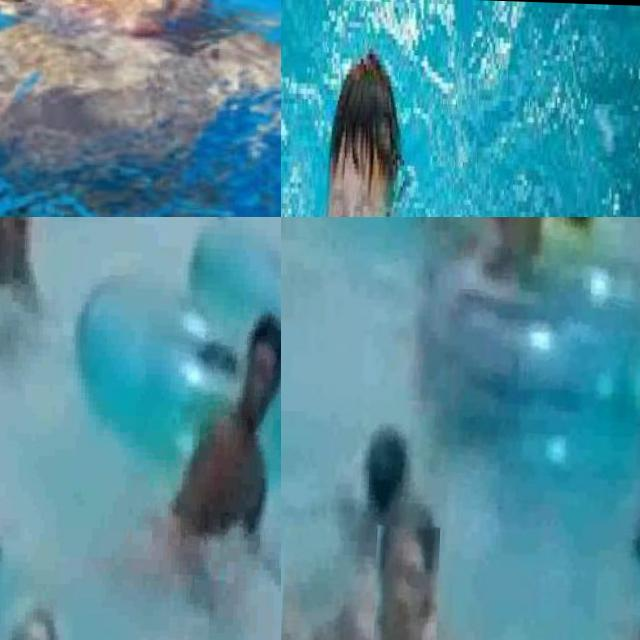drowning: (0, 0, 281, 217), (281, 0, 496, 217), (335, 408, 414, 523)
swimming: (158, 298, 281, 540), (448, 217, 558, 321), (371, 524, 440, 640), (284, 588, 364, 640), (616, 600, 640, 640)
